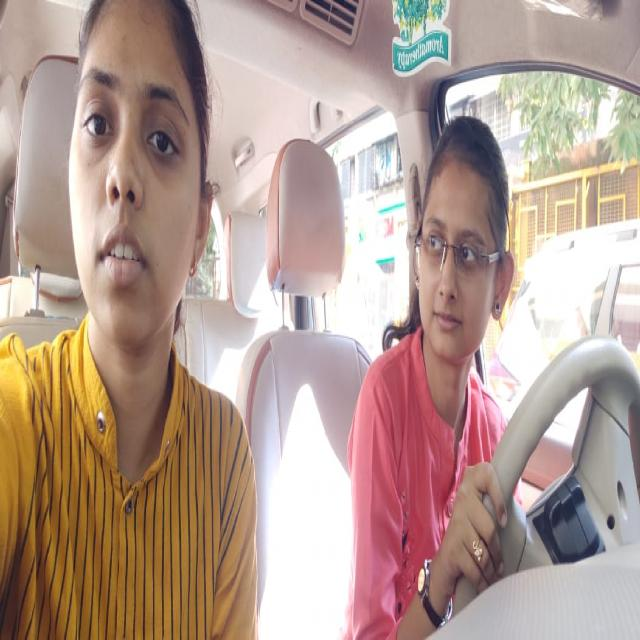LeftRight: (401, 91, 515, 419)
person: (64, 0, 238, 384)
